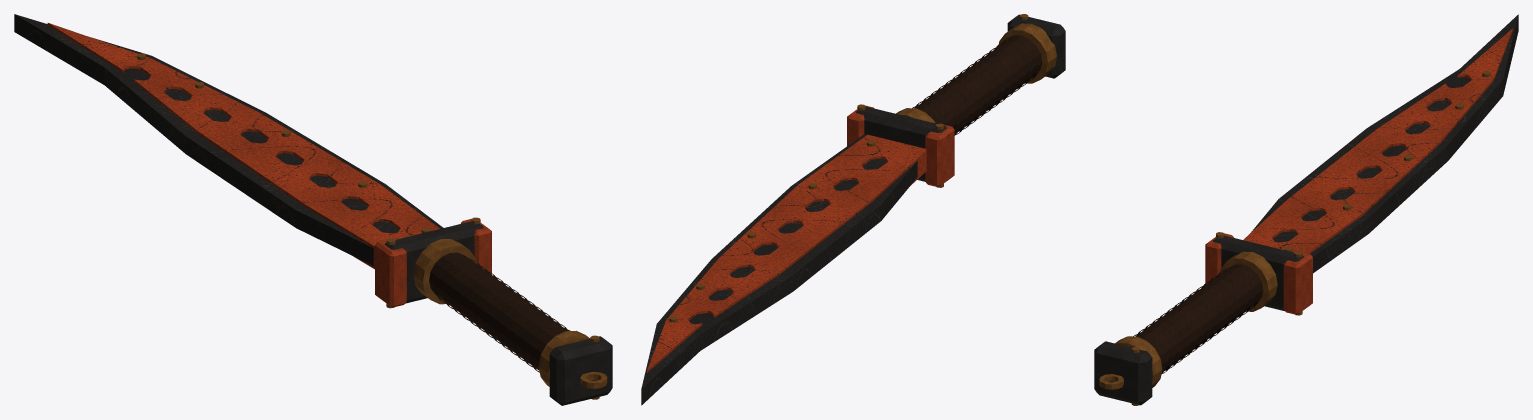
The model's file is kiln-sword-ready.glb.
3 views of the same model, side by side, from view 1: azimuth 30°, elevation 25°; view 2: azimuth 150°, elevation 25°; view 3: azimuth 330°, elevation 25° (orthographic). The views are drawn at different scales.
Visible parts, largest first — view 1: Vented fired ceramic blade jacket, Forged wedge blade, Grip core, Pommel iron cap, Guard iron block, Ceramic guard cheek, Brass grip ferrule.001, Brass grip ferrule, Ceramic guard cheek.001; view 2: Vented fired ceramic blade jacket, Forged wedge blade, Grip core, Guard iron block, Ceramic guard cheek, Brass grip ferrule, Pommel iron cap, Ceramic guard cheek.001; view 3: Vented fired ceramic blade jacket, Forged wedge blade, Grip core, Pommel iron cap, Guard iron block, Ceramic guard cheek.001, Brass grip ferrule.001, Brass grip ferrule, Ceramic guard cheek.
Part boxes in pixels (x1,y1,x2,y2): Vented fired ceramic blade jacket: (47,23,439,269); Forged wedge blade: (14,14,443,265); Grip core: (429,252,567,370); Pommel iron cap: (549,336,612,405); Guard iron block: (384,221,483,303); Ceramic guard cheek: (375,239,406,307); Brass grip ferrule.001: (413,239,476,304); Brass grip ferrule: (538,330,589,386); Ceramic guard cheek.001: (460,219,491,274); Vented fired ceramic blade jacket: (647,134,926,372); Forged wedge blade: (641,134,917,405); Grip core: (914,37,1042,133); Guard iron block: (856,106,946,181); Ceramic guard cheek: (925,124,954,187); Brass grip ferrule: (998,23,1056,83); Pommel iron cap: (1007,14,1065,78); Ceramic guard cheek.001: (847,105,874,145); Vented fired ceramic blade jacket: (1243,28,1512,253); Forged wedge blade: (1251,14,1518,273); Grip core: (1135,264,1263,371); Pommel iron cap: (1094,341,1152,405); Guard iron block: (1213,235,1303,310); Ceramic guard cheek.001: (1283,252,1312,314); Brass grip ferrule.001: (1219,251,1277,311); Brass grip ferrule: (1115,336,1162,387); Ceramic guard cheek: (1205,233,1233,284).
Size of the model in its own units: 0.1745 by 0.092 by 1.31.
Materials: 4 (4 with a texture image).
